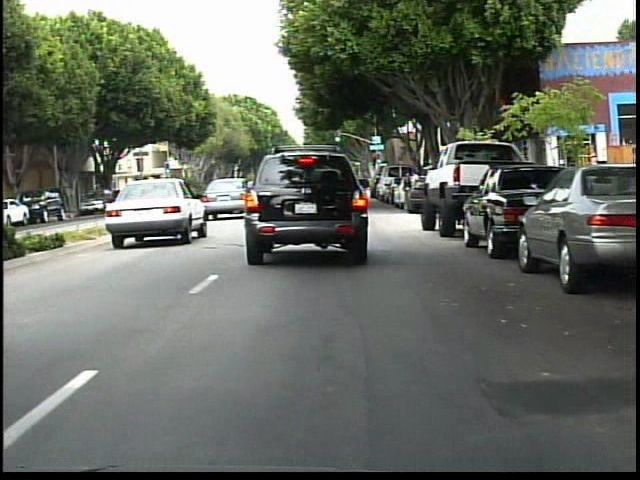person: (399, 167, 413, 216), (410, 167, 421, 187)
